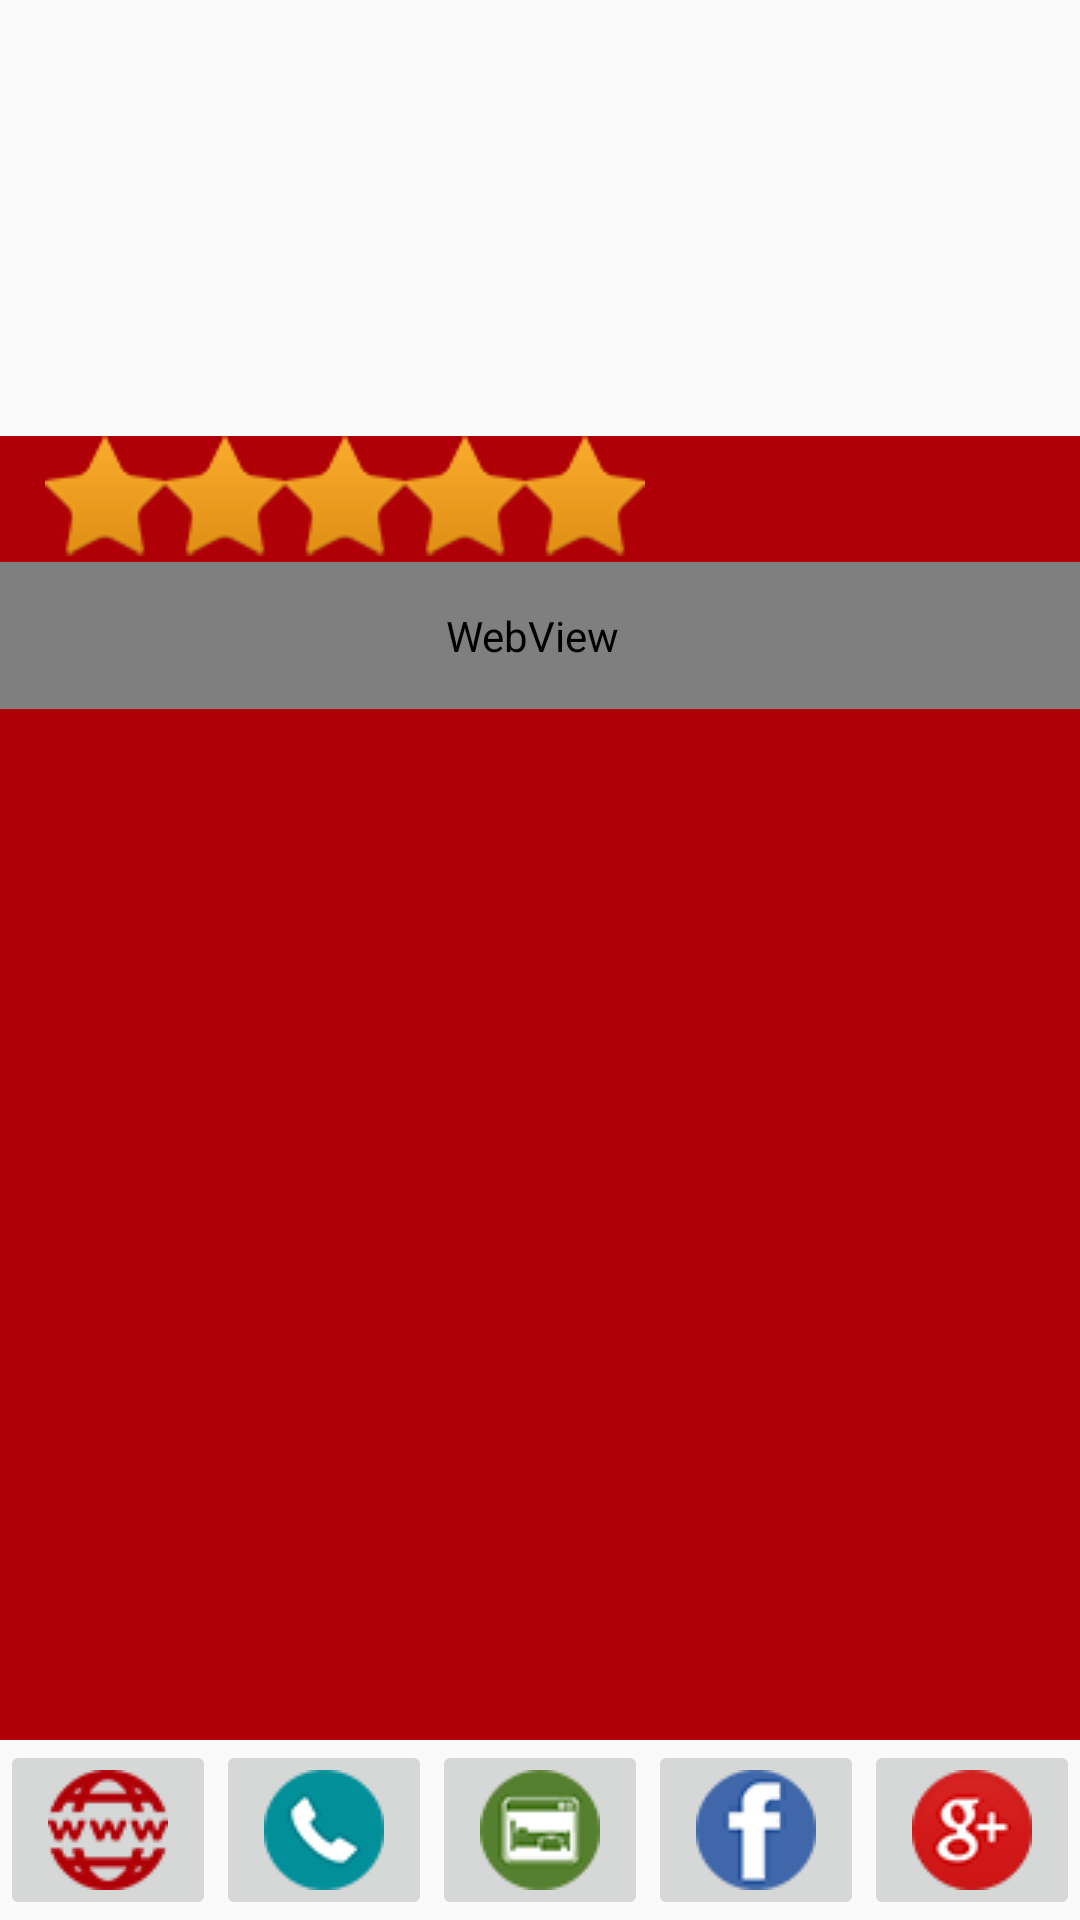

Point at icon controls on the screen. Image size 1080px×1920px, points as point (x, y).
estrella: point (105, 496), point (225, 496), point (345, 496), point (465, 496), point (585, 496)
llamar: point (324, 1830)
web: point (108, 1830)
